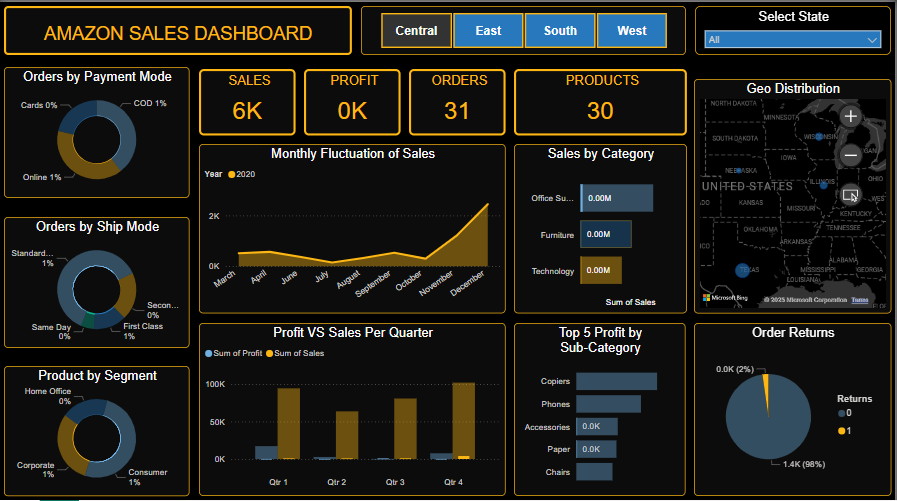

What the dashboard file says about the page in this screenshot:
{"tool":"powerbi","page":{"name":"Page 1","canvas":[1280,720],"ordinal":0},"visuals":[{"type":"clusteredBarChart","title":"Sales by Category","fields":{"Category":["Sheet1.Category"],"Y":["Sum(Sheet1.Sales)"]},"box":[735,203.3,246.7,241.7],"z":0},{"type":"clusteredBarChart","title":"Top 5 Profit by Sub-Category","fields":{"Y":["Sum(Sheet1.Profit)"],"Category":["Sheet1.Sub-Category"]},"box":[735,458.3,245,246.7],"z":1000},{"type":"donutChart","title":"Orders by Payment Mode","fields":{"Category":["Sheet1.Payment Mode"],"Y":["CountNonNull(Sheet1.Order ID)"]},"box":[6.7,93.3,265,186.7],"z":2000},{"type":"donutChart","title":"Orders by Ship Mode","fields":{"Y":["CountNonNull(Sheet1.Order ID)"],"Category":["Sheet1.Ship Mode"]},"box":[6.7,306.7,265,186.7],"z":3000},{"type":"donutChart","title":"Product by Segment","fields":{"Category":["Sheet1.Segment"],"Y":["CountNonNull(Sheet1.Product ID)"]},"box":[7.1,520.2,265,185.7],"z":4000},{"type":"map","title":"Geo Distribution","fields":{"Category":["Sheet1.State"],"Size":["Sum(Sheet1.Sales)"]},"box":[993.3,110,281.7,335],"z":5000},{"type":"pieChart","title":"Order Returns","fields":{"Category":["Sheet1.Returns"],"Y":["CountNonNull(Sheet1.Order ID)"]},"box":[993.3,458.3,281.7,246.7],"z":6000},{"type":"stackedAreaChart","title":"Monthly Fluctuation of Sales","fields":{"Category":["Sheet1.Order Date.Variation.Date Hierarchy.Month"],"Y":["Sum(Sheet1.Sales)"],"Series":["Sheet1.Order Date.Variation.Date Hierarchy.Year"]},"box":[285,203.3,438.3,241.7],"z":7000},{"type":"clusteredColumnChart","title":"Profit VS Sales Per Quarter","fields":{"Category":["Sheet1.Order Date.Variation.Date Hierarchy.Quarter"],"Y":["Sum(Sheet1.Profit)","Sum(Sheet1.Sales)"]},"box":[285,458.3,438.3,246.7],"z":8000},{"type":"slicer","fields":{"Values":["Sheet1.Region"]},"box":[517.1,5.7,464.3,70],"z":9000},{"type":"slicer","title":"Select State","fields":{"Values":["Sheet1.State"]},"box":[994,5.3,280,70],"z":10000},{"type":"card","title":"SALES","fields":{"Values":["Sum(Sheet1.Sales)"]},"box":[285,95,138.3,95],"z":11000},{"type":"card","title":"PROFIT","fields":{"Values":["Sum(Sheet1.Profit)"]},"box":[435,95,138.3,95],"z":12000},{"type":"card","title":"ORDERS","fields":{"Values":["CountNonNull(Sheet1.Order ID)"]},"box":[585,95,138.3,95],"z":13000},{"type":"card","title":"PRODUCTS","fields":{"Values":["Count(Sheet1.Product ID)"]},"box":[735,95,246.7,95],"z":14000},{"type":"textbox","box":[7.1,5.7,497.1,70],"z":15000}]}

Visuals, with their boxes in screenshot pixels (x1, y1, x2, y2), scaled from the page's 1280x720 canvas onto the 897x501 screenshot:
"Sales by Category" clusteredBarChart: {"left": 515, "top": 141, "right": 688, "bottom": 310}
"Top 5 Profit by Sub-Category" clusteredBarChart: {"left": 515, "top": 319, "right": 687, "bottom": 491}
"Orders by Payment Mode" donutChart: {"left": 5, "top": 65, "right": 190, "bottom": 195}
"Orders by Ship Mode" donutChart: {"left": 5, "top": 213, "right": 190, "bottom": 343}
"Product by Segment" donutChart: {"left": 5, "top": 362, "right": 191, "bottom": 491}
"Geo Distribution" map: {"left": 696, "top": 77, "right": 893, "bottom": 310}
"Order Returns" pieChart: {"left": 696, "top": 319, "right": 893, "bottom": 491}
"Monthly Fluctuation of Sales" stackedAreaChart: {"left": 200, "top": 141, "right": 507, "bottom": 310}
"Profit VS Sales Per Quarter" clusteredColumnChart: {"left": 200, "top": 319, "right": 507, "bottom": 491}
slicer - Sheet1.Region: {"left": 362, "top": 4, "right": 688, "bottom": 53}
"Select State" slicer: {"left": 697, "top": 4, "right": 893, "bottom": 52}
"SALES" card: {"left": 200, "top": 66, "right": 297, "bottom": 132}
"PROFIT" card: {"left": 305, "top": 66, "right": 402, "bottom": 132}
"ORDERS" card: {"left": 410, "top": 66, "right": 507, "bottom": 132}
"PRODUCTS" card: {"left": 515, "top": 66, "right": 688, "bottom": 132}
textbox: {"left": 5, "top": 4, "right": 353, "bottom": 53}
